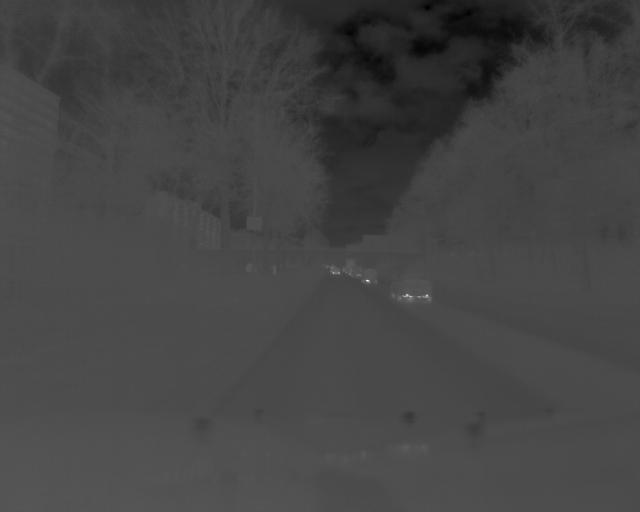car: (390, 271, 435, 305)
